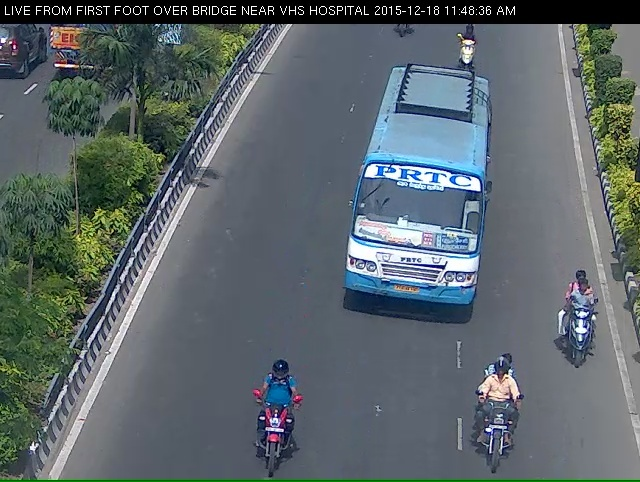Bus: (341, 77, 500, 349)
Person: (465, 378, 528, 480), (554, 286, 601, 384), (241, 402, 298, 477), (450, 30, 483, 74)
